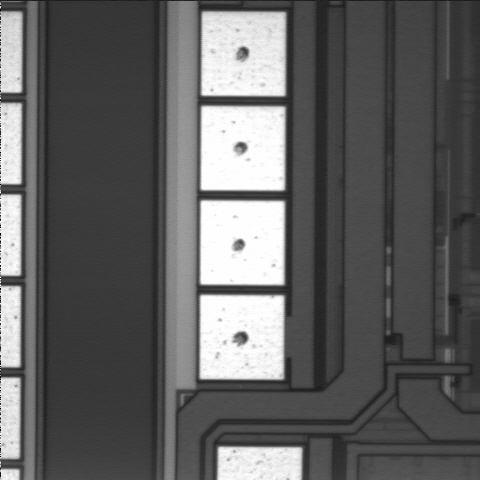pad: (200, 200, 285, 285), (201, 106, 285, 191), (201, 12, 285, 96), (200, 295, 284, 379)
